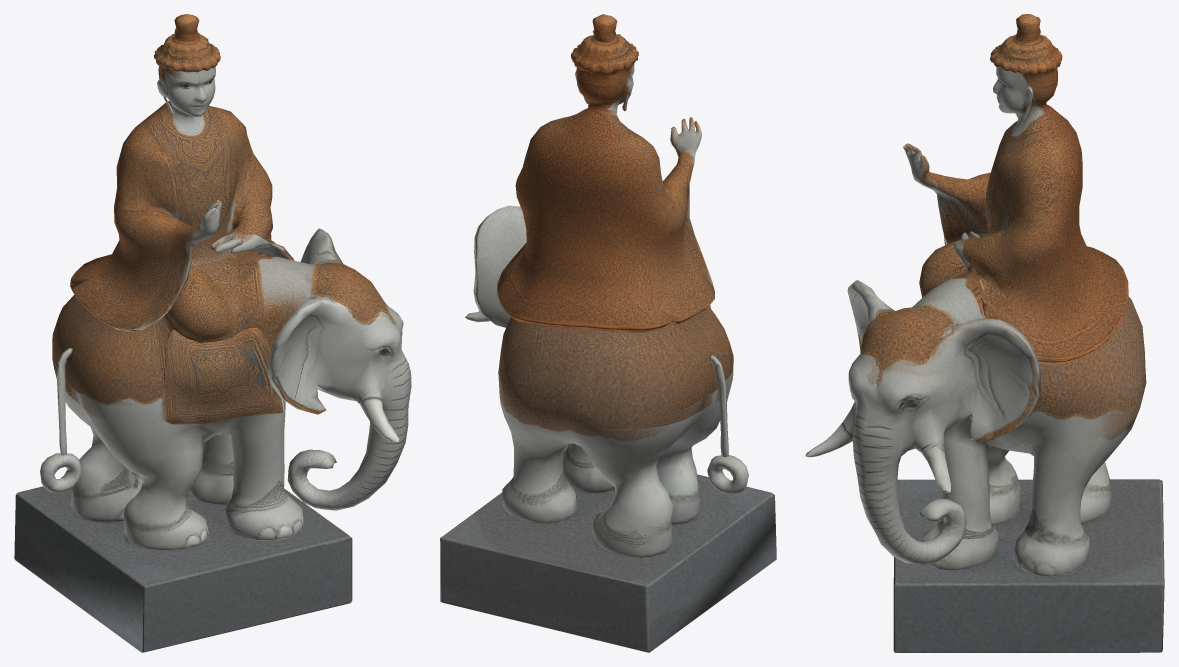
Rendered from ky-tuong-la-han.glb.
3 views of the same model, side by side, from view 1: azimuth 30°, elevation 25°; view 2: azimuth 150°, elevation 25°; view 3: azimuth 270°, elevation 25° (orthographic). The views are drawn at different scales.
Bounding box in the file's own units: 0.5969 × 1 × 0.5547.
Materials: 1 (1 with a texture image).
